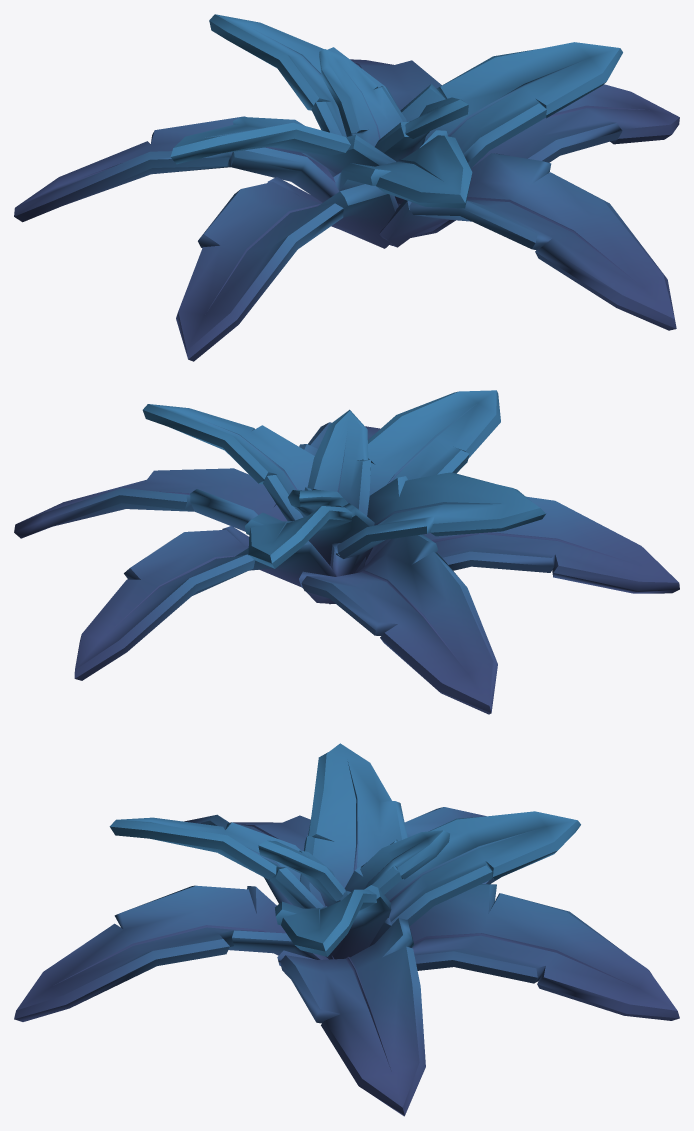
File: Plants_033.fbx
3 renders of one model, top to bottom at view 1: azimuth 30°, elevation 25°; view 2: azimuth 150°, elevation 25°; view 3: azimuth 270°, elevation 25°, orthographic. The views are drawn at different scales.
Parts seen in each view (by area): view 1: Plants.033; view 2: Plants.033; view 3: Plants.033.
Part boxes in pixels (x1=…): Plants.033: x1=14, y1=14, x2=679, y2=361; Plants.033: x1=14, y1=390, x2=679, y2=714; Plants.033: x1=14, y1=743, x2=679, y2=1116.
Size of the model in its own units: 1067 by 284 by 1077.
